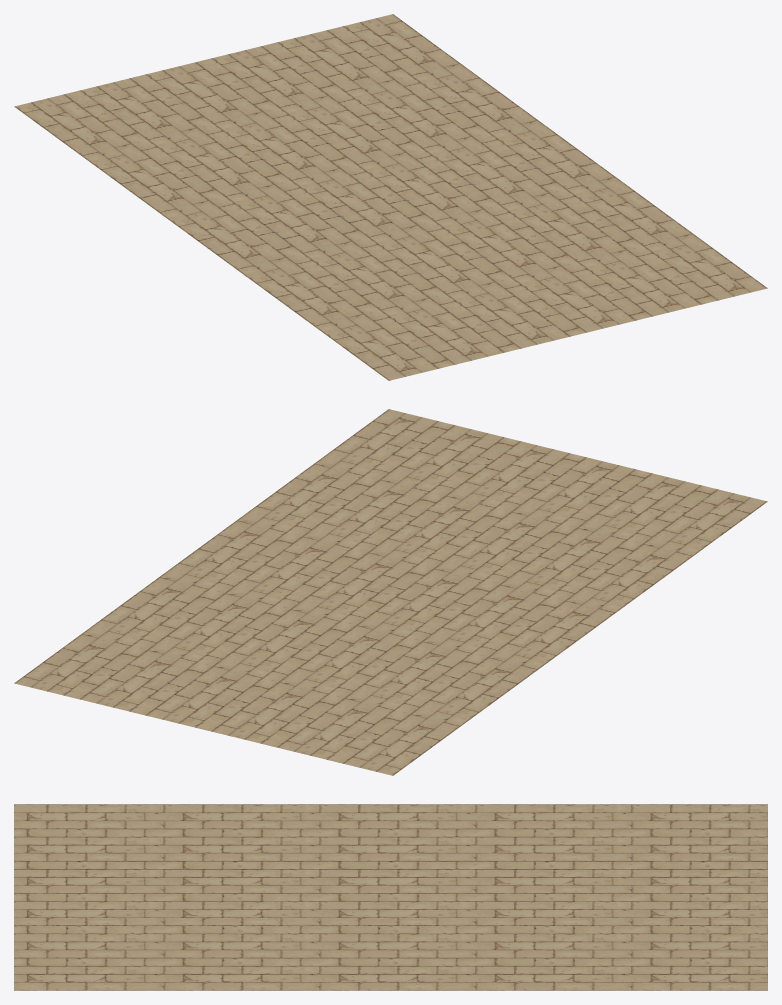
File: Ground12_Build_LostTemple_002.FBX
3 views of the same model, one above another, from view 1: azimuth 30°, elevation 25°; view 2: azimuth 150°, elevation 25°; view 3: azimuth 270°, elevation 25° (orthographic).
Visible parts, largest first — view 1: Ground12_Build_LostTemple_002; view 2: Ground12_Build_LostTemple_002; view 3: Ground12_Build_LostTemple_002.
Part boxes in pixels (x1,y1,x2,y2): Ground12_Build_LostTemple_002: (14, 14, 767, 380); Ground12_Build_LostTemple_002: (14, 409, 767, 775); Ground12_Build_LostTemple_002: (14, 804, 767, 990).
Size of the model in its own units: 1253 by 9.38e-05 by 2145.
1 material, 1 textured.
